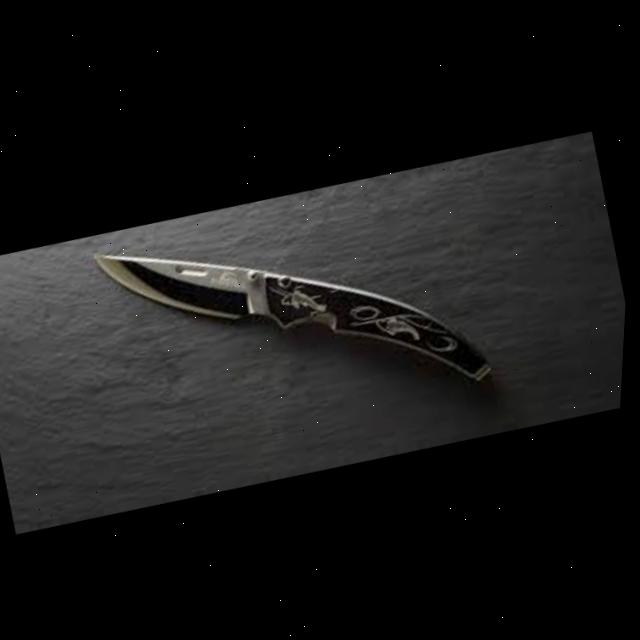knife: (85, 162, 505, 463)
